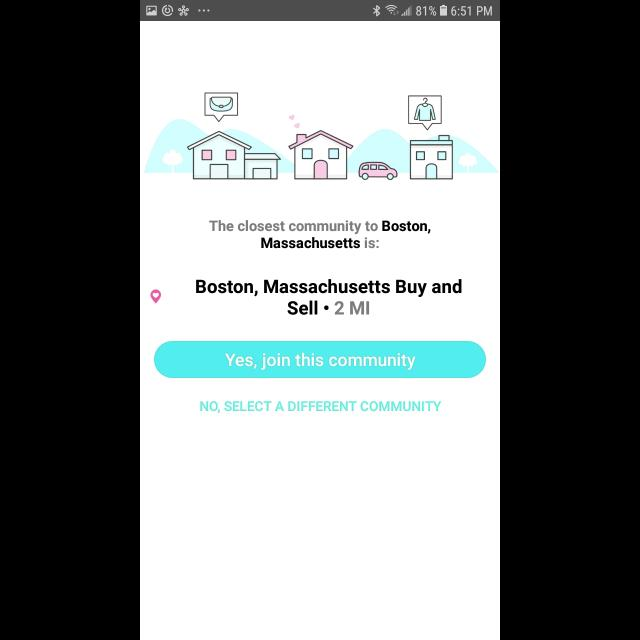icon: (150, 290, 162, 304)
image: (140, 93, 500, 181)
text: (196, 279, 462, 315), (209, 220, 431, 248), (200, 401, 442, 413)
textbutton: (154, 342, 486, 378)
uppertaskbar: (140, 1, 500, 22)
